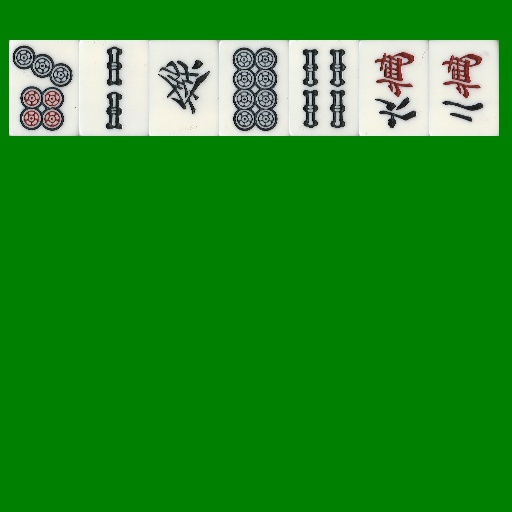2m: (429, 40, 499, 136)
2s: (79, 40, 149, 136)
4s: (289, 40, 359, 136)
6m: (359, 40, 429, 136)
7p: (9, 40, 79, 136)
8p: (219, 40, 289, 136)
hatsu: (149, 40, 219, 136)
